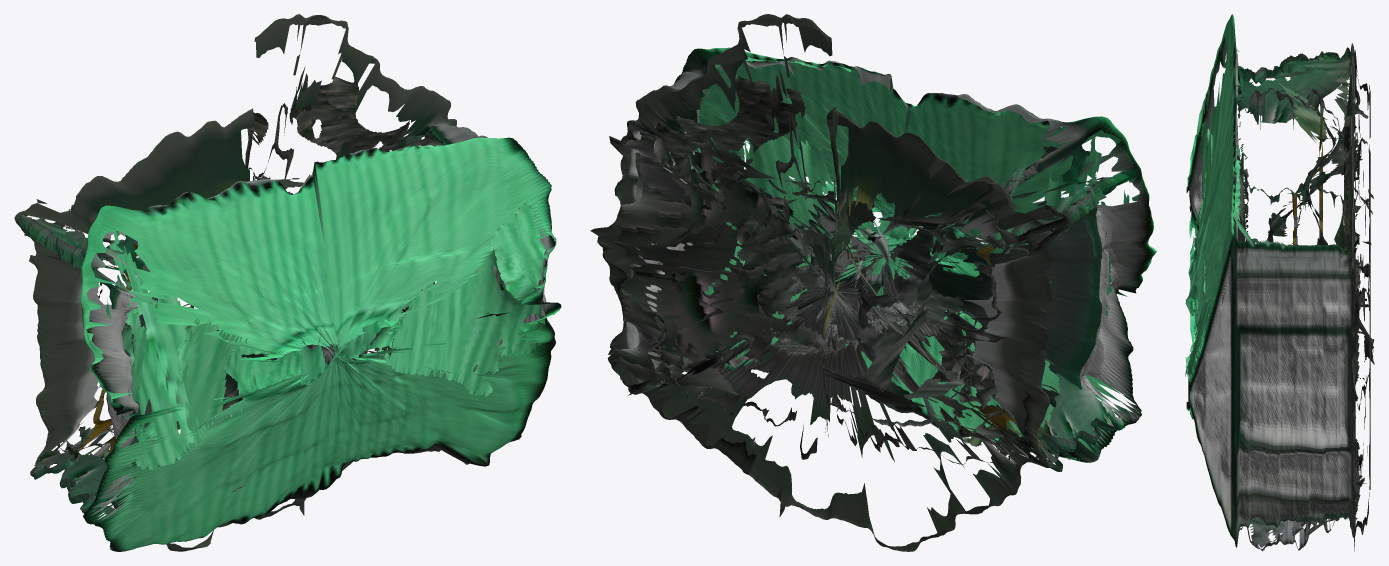
The model's file is detail_mesh.glb.
3 views of the same model, side by side, from view 1: azimuth 30°, elevation 25°; view 2: azimuth 150°, elevation 25°; view 3: azimuth 270°, elevation 25° (orthographic).
Visible parts, largest first — view 1: ipn, fill; view 2: ipn, fill; view 3: ipn, fill.
Part boxes in pixels (x1,y1,x2,y2): ipn: [14, 14, 561, 551]; fill: [24, 76, 545, 509]; ipn: [590, 14, 1156, 551]; fill: [612, 57, 1129, 462]; ipn: [1185, 14, 1370, 551]; fill: [1185, 49, 1374, 547].
Size of the model in its own units: 1.73 by 1.73 by 0.5938.
Materials: 2 (1 with a texture image).
